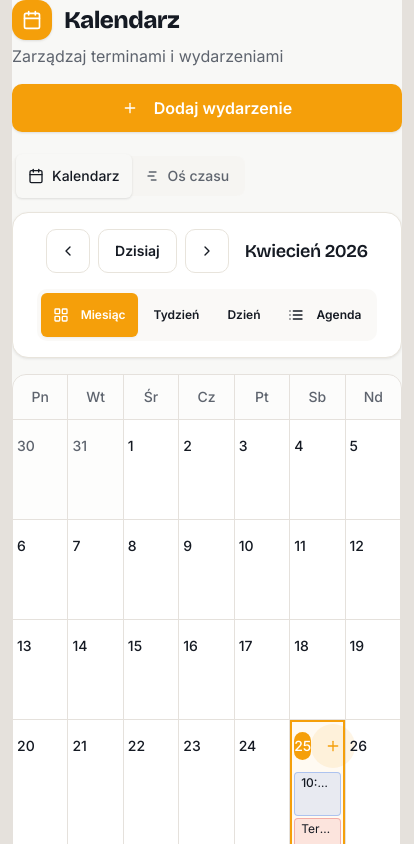
Test: Calendar › view mode switching › should switch to day view when Dzień button is clicked
Click the button "Dzień". click: click(244, 315)
box: [215, 293, 272, 337]
(page scrolled)
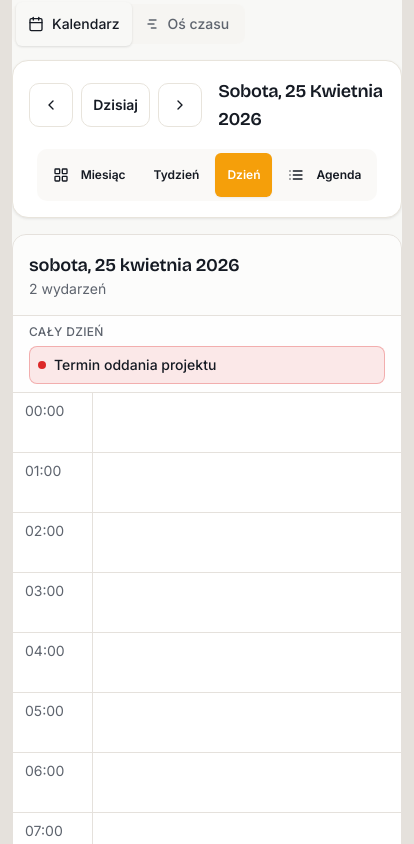
Expected: the text "00:00" is shown, [13, 393, 93, 452]
